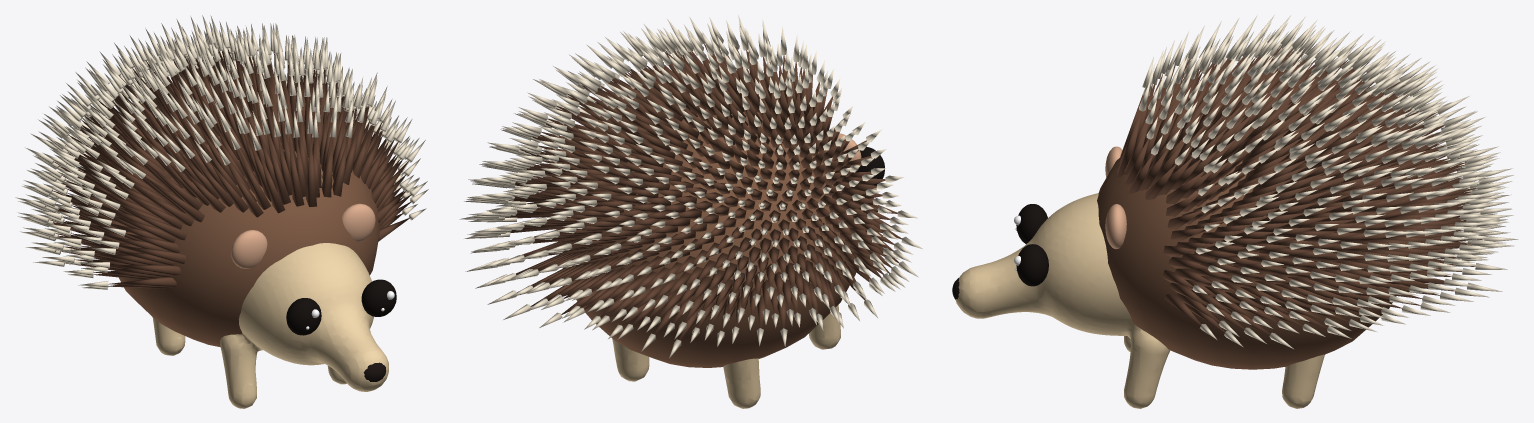
Rendered from ourico.fbx.
3 renders of one model, left to right at view 1: azimuth 30°, elevation 25°; view 2: azimuth 150°, elevation 25°; view 3: azimuth 270°, elevation 25°, orthographic. The views are drawn at different scales.
Visible parts, largest first — view 1: our_corpo, Sphere.001, Sphere.002, Sphere.004, Sphere.007, Sphere.003, Cone.580, Cone.538, Cone.846, Cone.496, Cone.678, Cone.726 (+12 smaller); view 2: Sphere.001, our_corpo, Sphere.004; view 3: our_corpo, Sphere.001, Sphere.007, Sphere.004, Sphere.003.
Part boxes in pixels (left/top/right/bottom): our_corpo: left=152, top=243, right=388, bottom=408; Sphere.001: left=115, top=112, right=380, bottom=347; Sphere.002: left=231, top=230, right=267, bottom=268; Sphere.004: left=286, top=298, right=321, bottom=335; Sphere.007: left=361, top=279, right=396, bottom=316; Sphere.003: left=342, top=203, right=375, bottom=241; Cone.580: left=306, top=134, right=316, bottom=206; Cone.538: left=289, top=134, right=304, bottom=206; Cone.846: left=120, top=207, right=187, bottom=240; Cone.496: left=267, top=134, right=290, bottom=204; Cone.678: left=145, top=177, right=204, bottom=222; Cone.726: left=133, top=186, right=193, bottom=226; Sphere.001: left=556, top=109, right=856, bottom=367; our_corpo: left=612, top=187, right=876, bottom=408; Sphere.004: left=856, top=147, right=884, bottom=185; our_corpo: left=955, top=193, right=1324, bottom=408; Sphere.001: left=1097, top=136, right=1396, bottom=369; Sphere.007: left=1016, top=244, right=1048, bottom=286; Sphere.004: left=1016, top=204, right=1047, bottom=243; Sphere.003: left=1105, top=204, right=1126, bottom=249.
Size of the model in its own units: 2.07 by 1.67 by 2.5.
